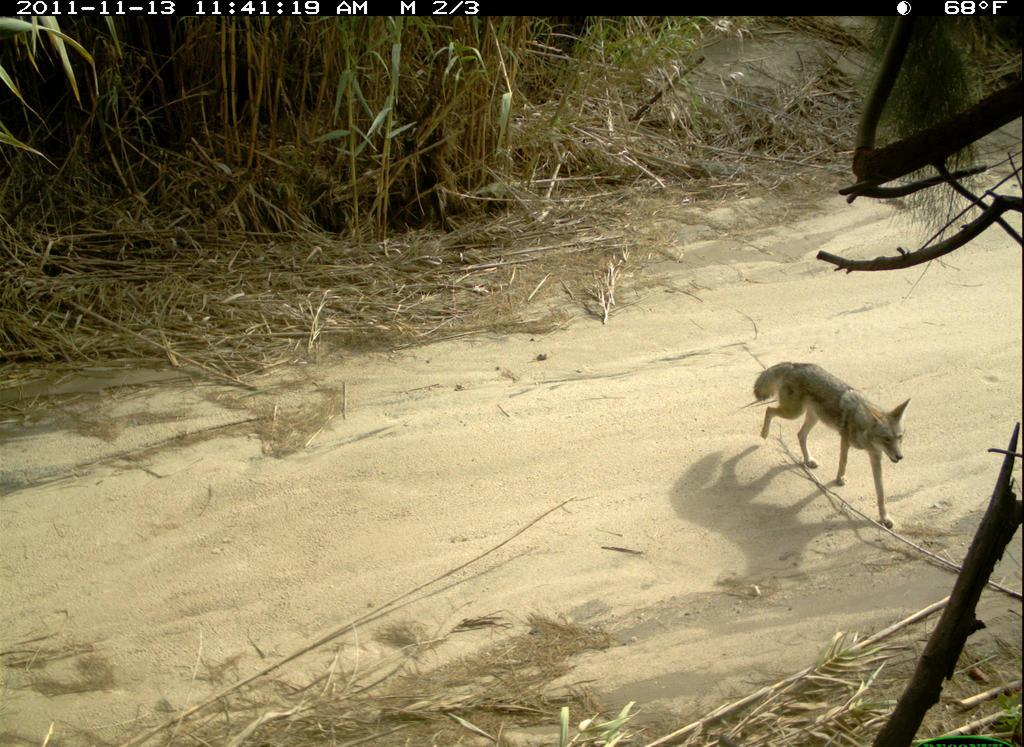coyote: (752, 360, 913, 533)
